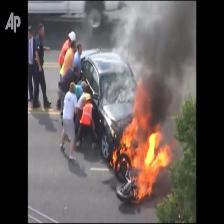fire: (122, 122, 168, 197)
smoke: (132, 7, 188, 120)
